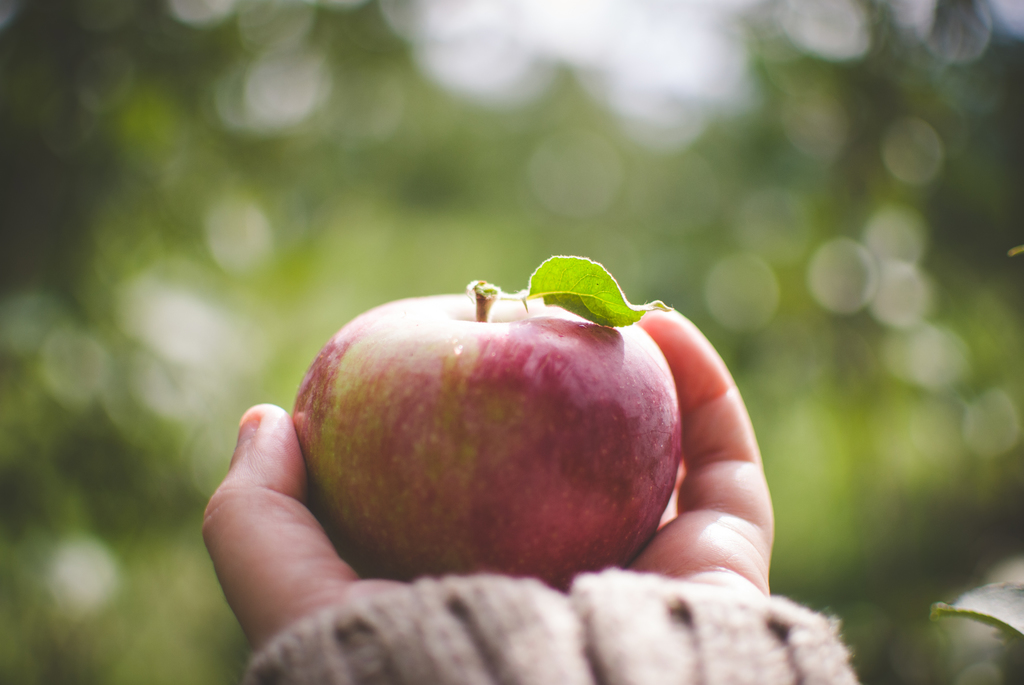Apple: (290, 267, 679, 601)
